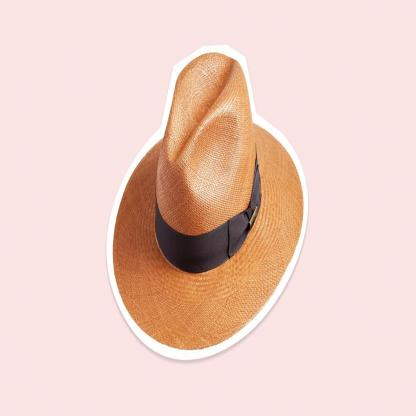hat: (110, 42, 306, 356)
